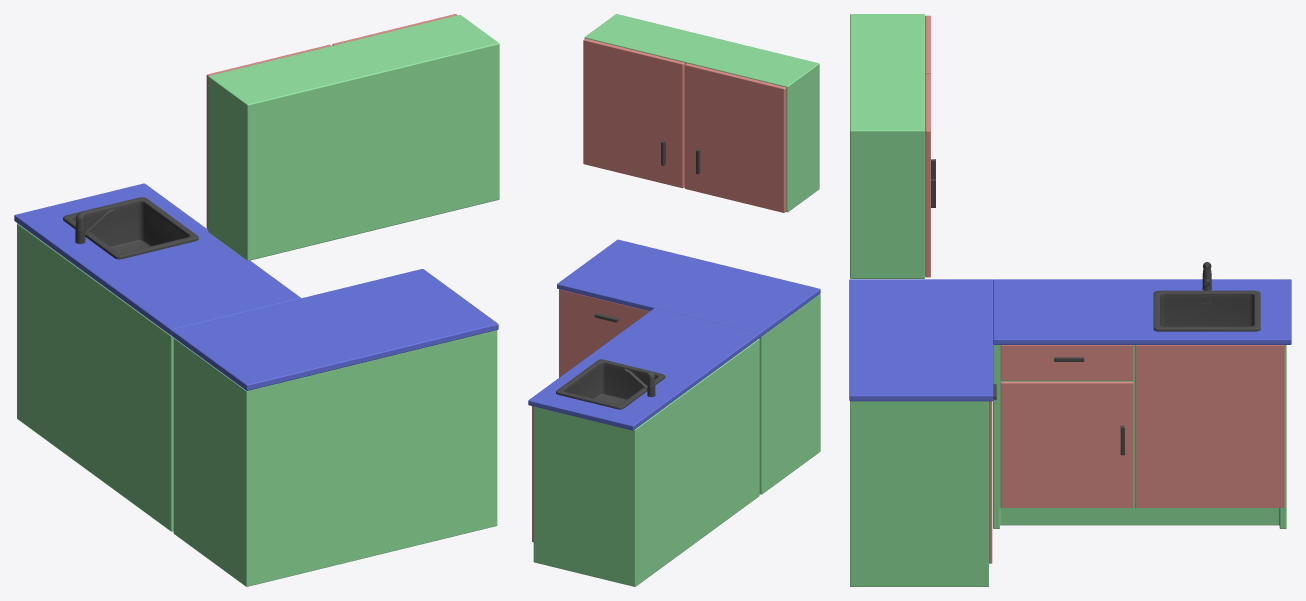
Rendered from HAVSEN set2.fbx.
3 views of the same model, side by side, from view 1: azimuth 30°, elevation 25°; view 2: azimuth 150°, elevation 25°; view 3: azimuth 270°, elevation 25° (orthographic). The views are drawn at different scales.
Parts seen in each view (by area): view 1: corner.003, Cube.009, left.003, corner.004, left.004, Cube.011, Cube.010; view 2: left.003, Cube.010, corner.004, left.004, Cube.009, corner.003, corner.005, Cube.011; view 3: left.005, corner.003, Cube.009, corner.004, left.004, left.003, Cube.011, Cube.010, corner.005, Cube.013.
Boxes of the visible parts, box(x1,y1,x2,y2) form: corner.003: box(173, 330, 497, 586); Cube.009: box(208, 15, 499, 260); left.003: box(17, 223, 173, 531); corner.004: box(171, 269, 498, 390); left.004: box(14, 183, 300, 335); Cube.011: box(63, 197, 198, 259); Cube.010: box(206, 14, 457, 229); left.003: box(533, 339, 759, 586); Cube.010: box(583, 38, 786, 212); corner.004: box(557, 239, 820, 337); left.004: box(528, 308, 759, 430); Cube.009: box(584, 14, 819, 212); corner.003: box(759, 294, 820, 494); corner.005: box(559, 289, 649, 377); Cube.011: box(556, 359, 665, 409); left.005: box(1000, 345, 1284, 507); corner.003: box(850, 401, 988, 586); Cube.009: box(850, 14, 925, 278); corner.004: box(849, 279, 993, 401); left.004: box(993, 279, 1291, 344); left.003: box(993, 344, 1286, 528); Cube.011: box(1153, 290, 1260, 331); Cube.010: box(925, 15, 930, 277); corner.005: box(989, 401, 992, 563); Cube.013: box(931, 159, 1124, 455).
Size of the model in its own units: 122 by 222 by 194.
